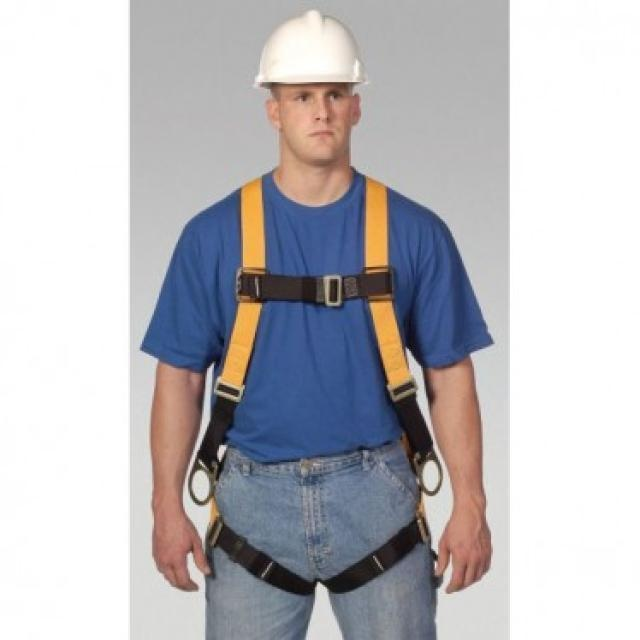Arnes_seguridad: (200, 163, 442, 584)
